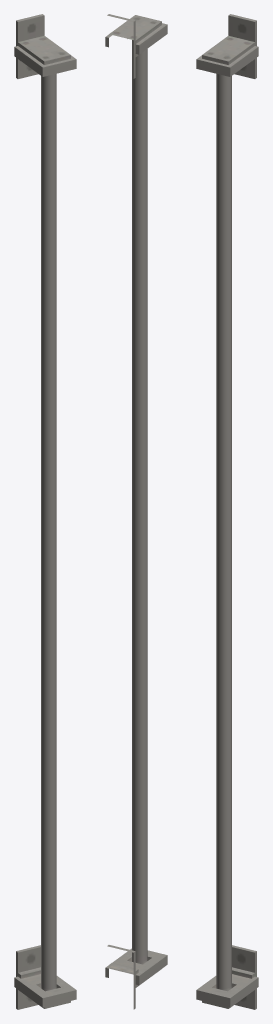
Rendered from SM_Lane_Divider_Door_01a.glb.
3 renders of one model, left to right at view 1: azimuth 30°, elevation 25°; view 2: azimuth 150°, elevation 25°; view 3: azimuth 330°, elevation 25°, orthographic.
Visible parts, largest first — view 1: SM_Lane_Divider_Door_01a; view 2: SM_Lane_Divider_Door_01a; view 3: SM_Lane_Divider_Door_01a.
Boxes of the visible parts, x1,y1,x2,y2 form: SM_Lane_Divider_Door_01a: (14, 14, 76, 1009); SM_Lane_Divider_Door_01a: (105, 14, 167, 1009); SM_Lane_Divider_Door_01a: (196, 14, 258, 1009).
Size of the model in its own units: 0.0462 by 1.29 by 0.0721.
1 material, 1 textured.
